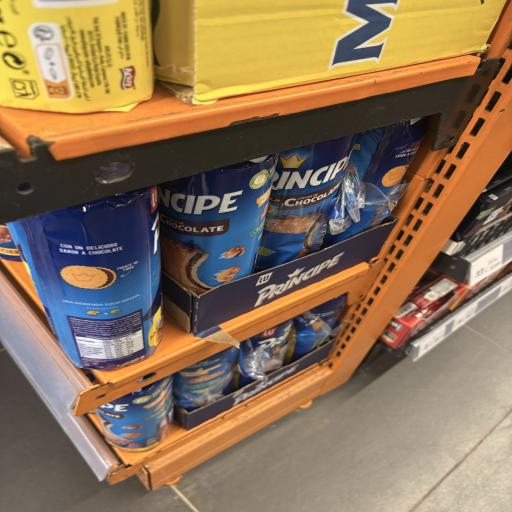prince: (121, 138, 317, 374)
